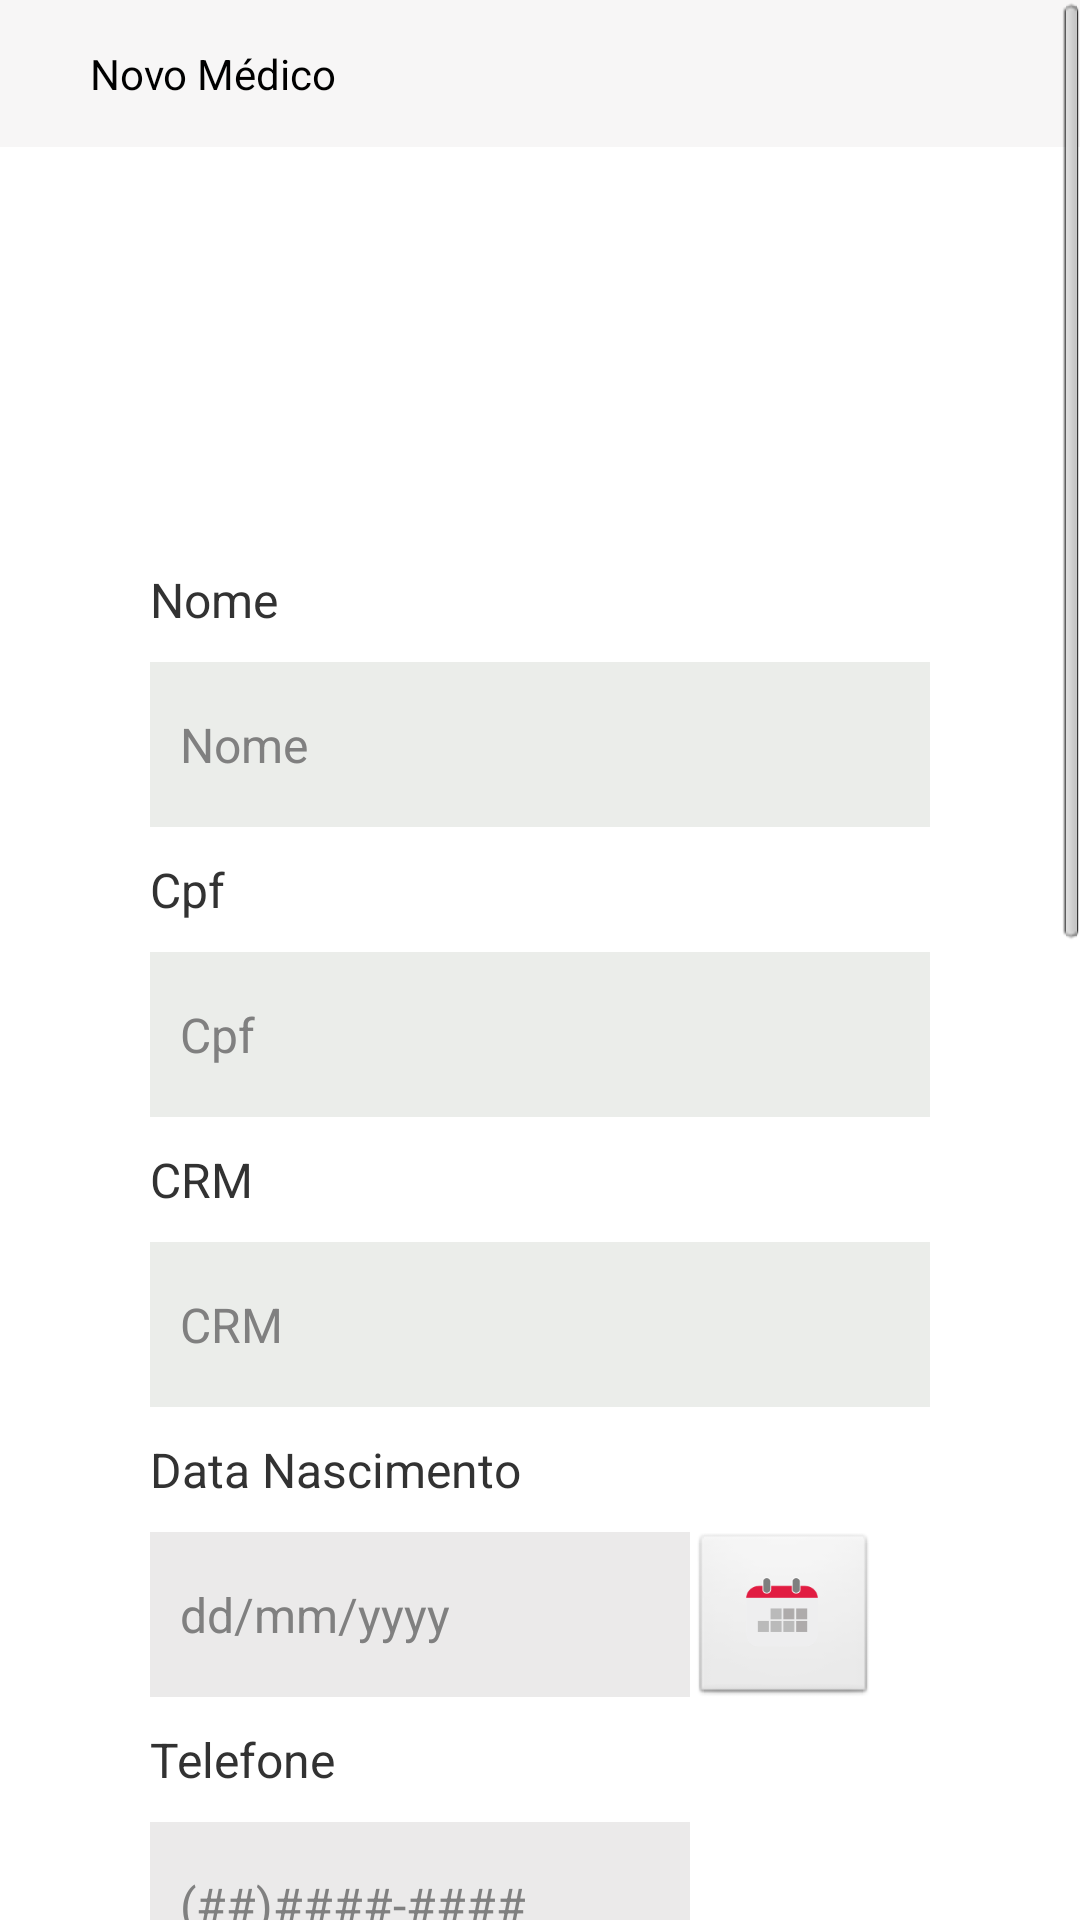

Icon bounding boxes for this 1080 × 1920 phone screenshot, format (x1, y1, x2, y2):
Data Nascimento: (698, 1534, 869, 1695)
